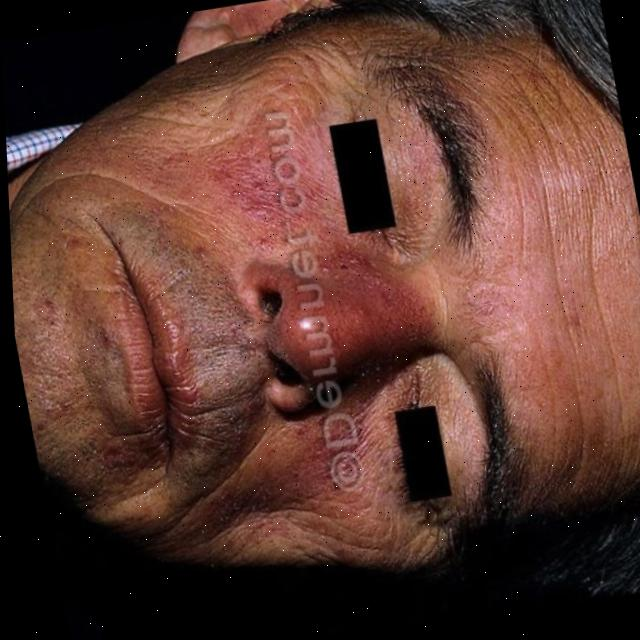Rosacea: (222, 395, 407, 543), (294, 236, 446, 399), (206, 110, 348, 269)
